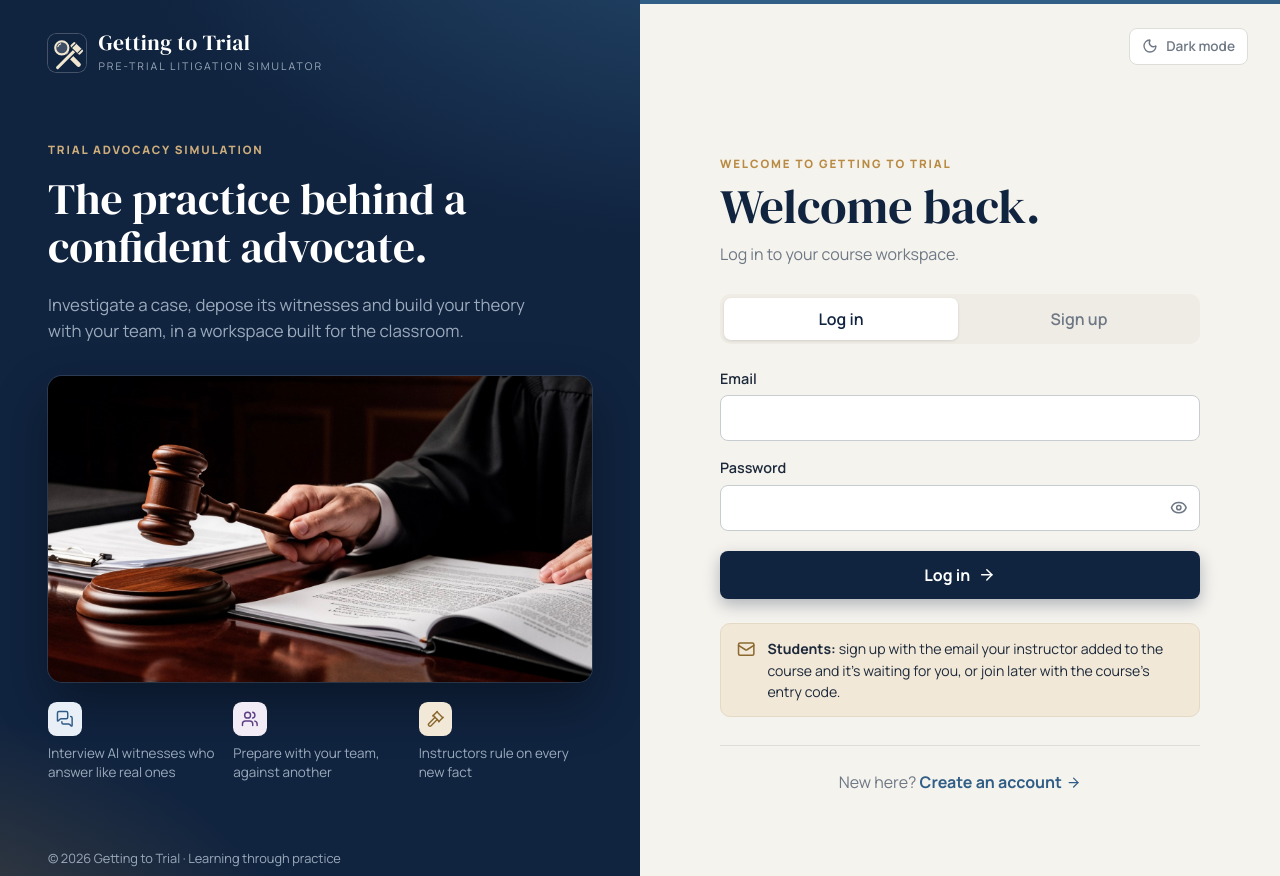
Test: log in › clears the error and password when switching tabs
This screenshot has width=1280, height=876.
Expected: the heading "Welcome back." is shown, [720,173,1040,239]
Type "ada@example.com" into the field labelled "Email".
click(960, 418); type("ada@example.com")  # box [720,395,1200,442]
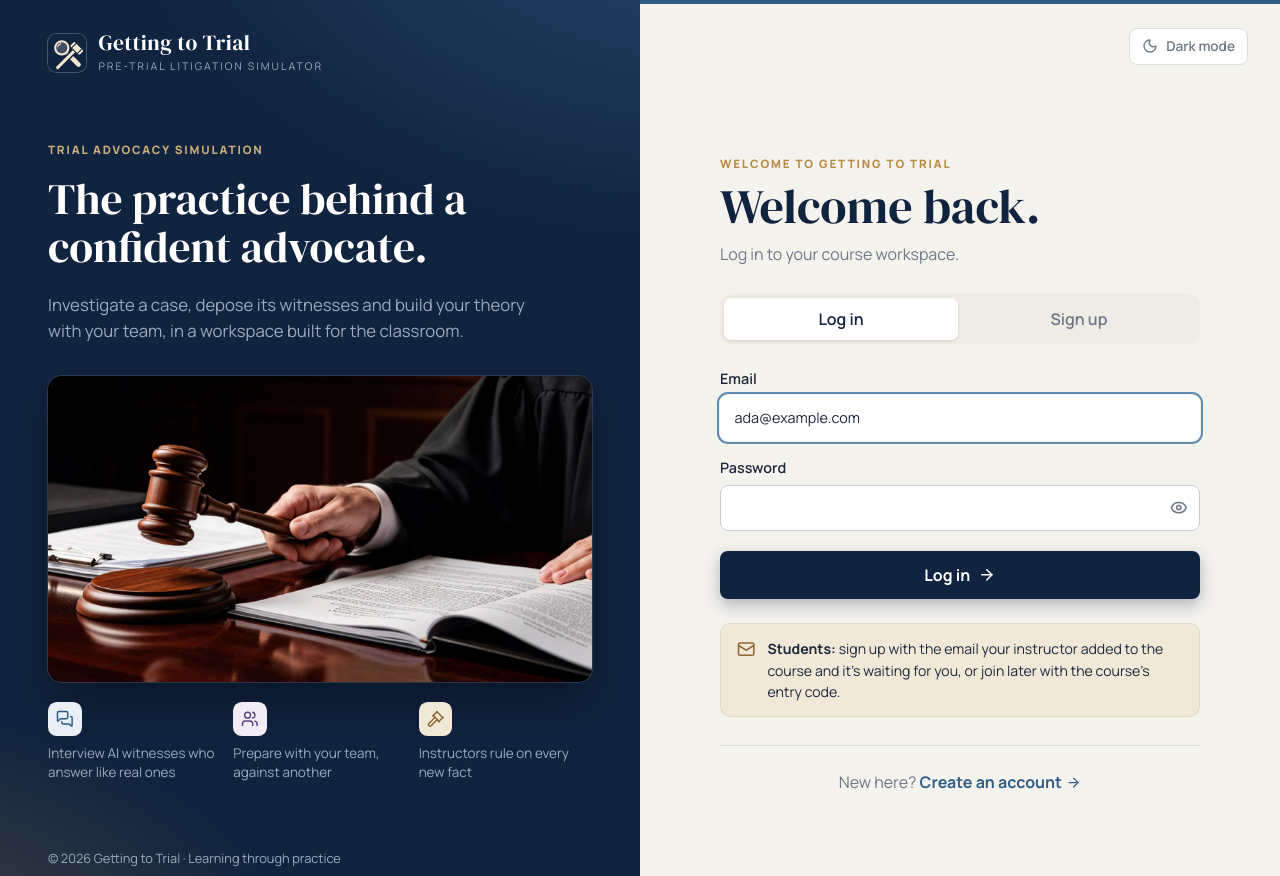
Type "wrong-password" into the password field labelled "Password".
click(960, 508); type("wrong-password")  # box [720,485,1200,531]
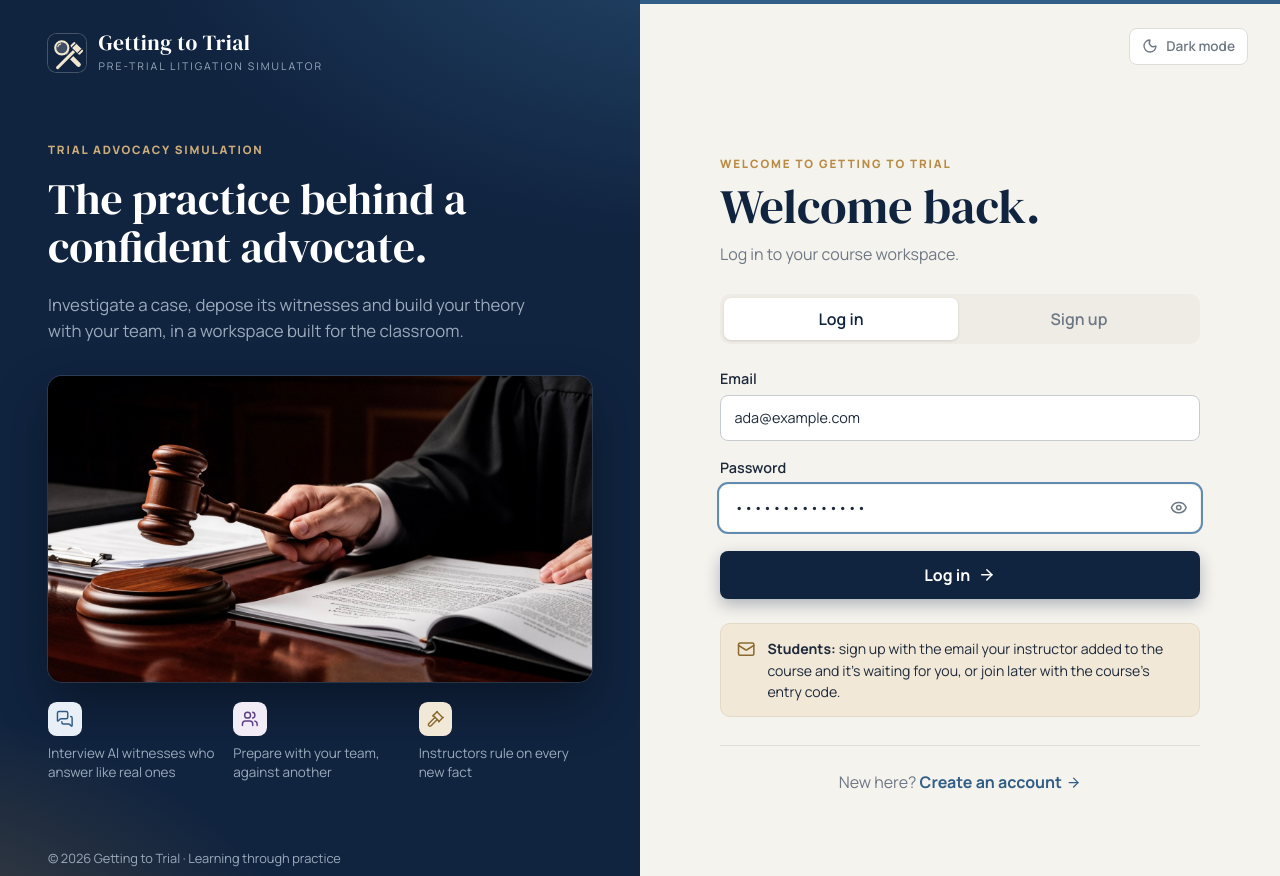
Click the button "Log in".
click(960, 575)  # box [720,551,1200,599]
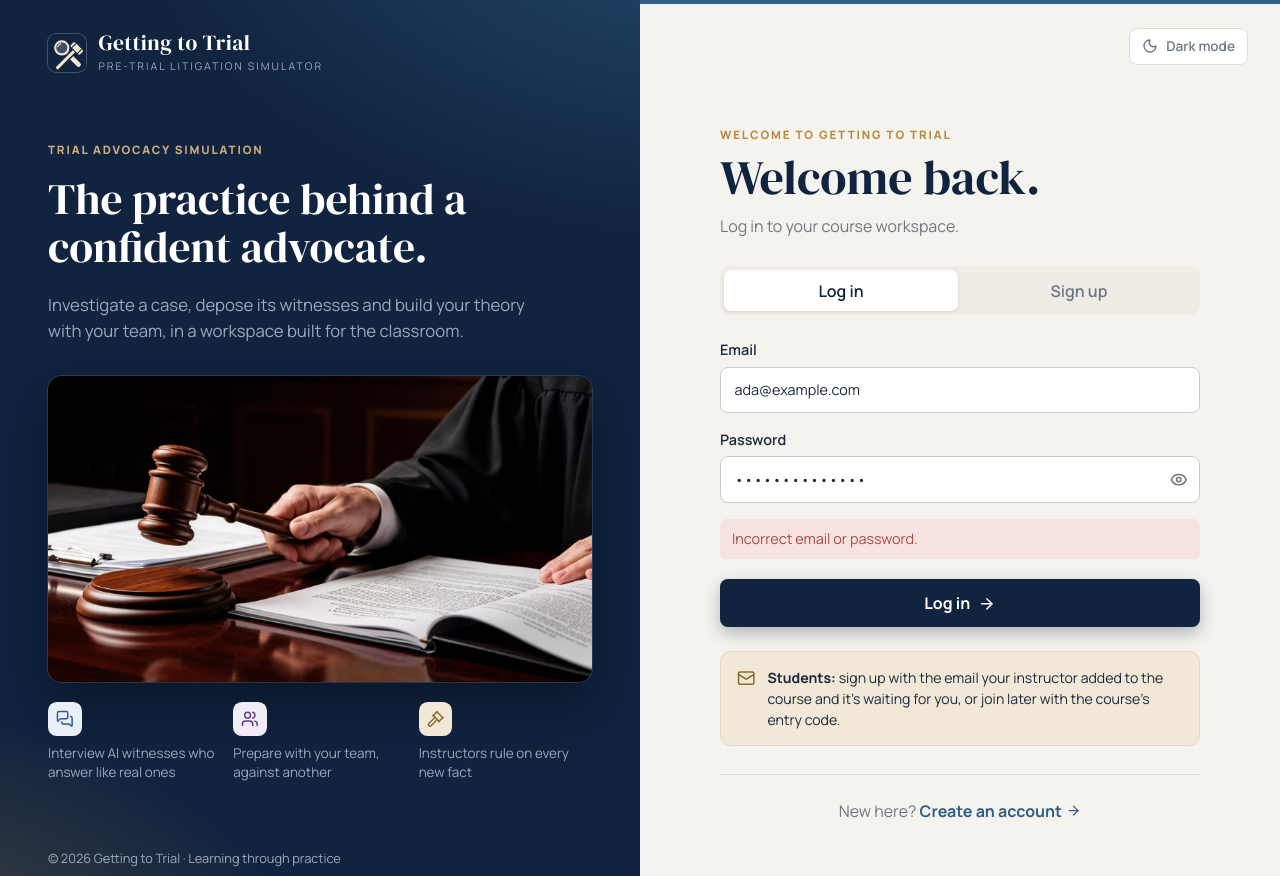
Result: the message "Incorrect email or password." is shown at [720,519,1200,559]
Click the tab "Sign up".
click(1079, 291)  # box [962,270,1196,312]
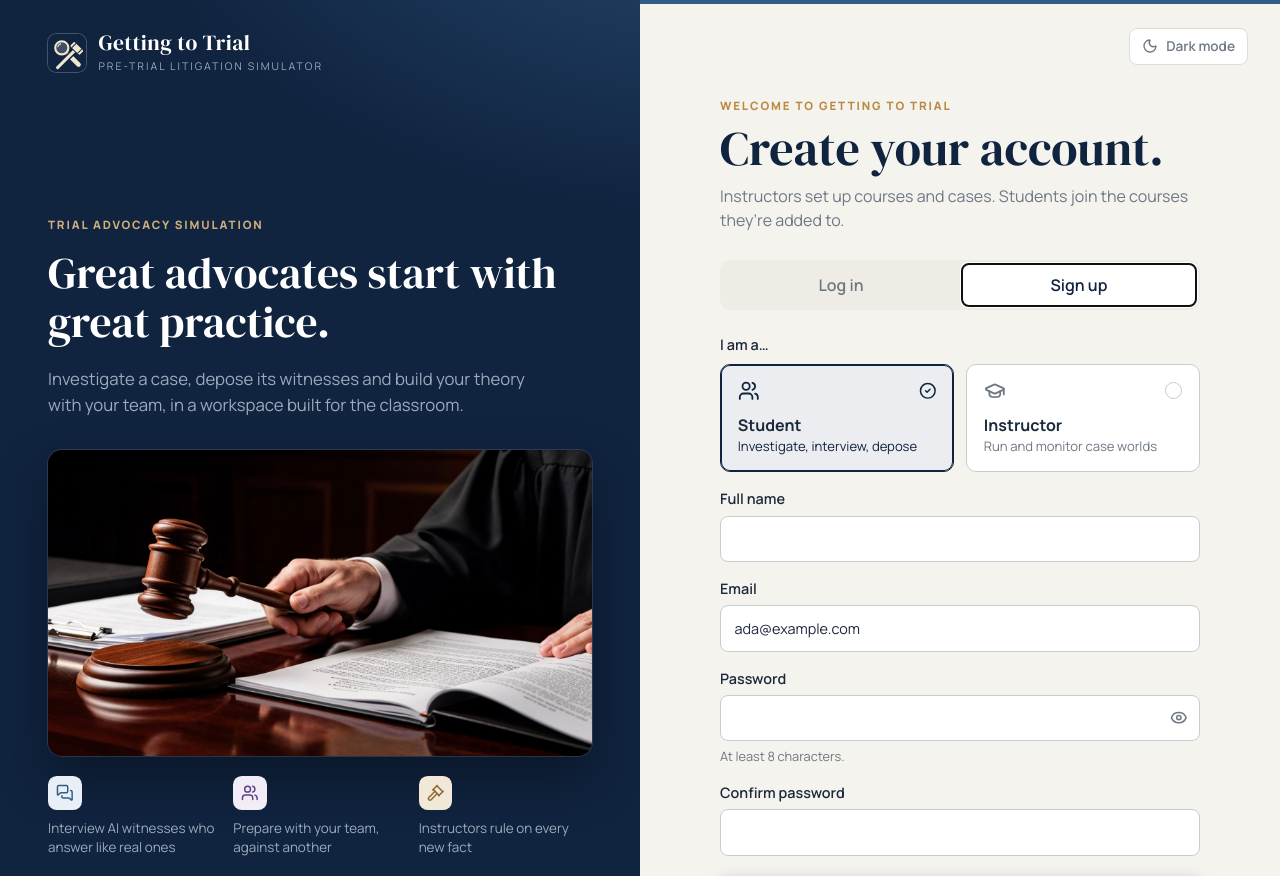
Result: the message "Incorrect email or password." is gone
Result: the password field labelled "Password" is empty at [720,695,1200,741]
